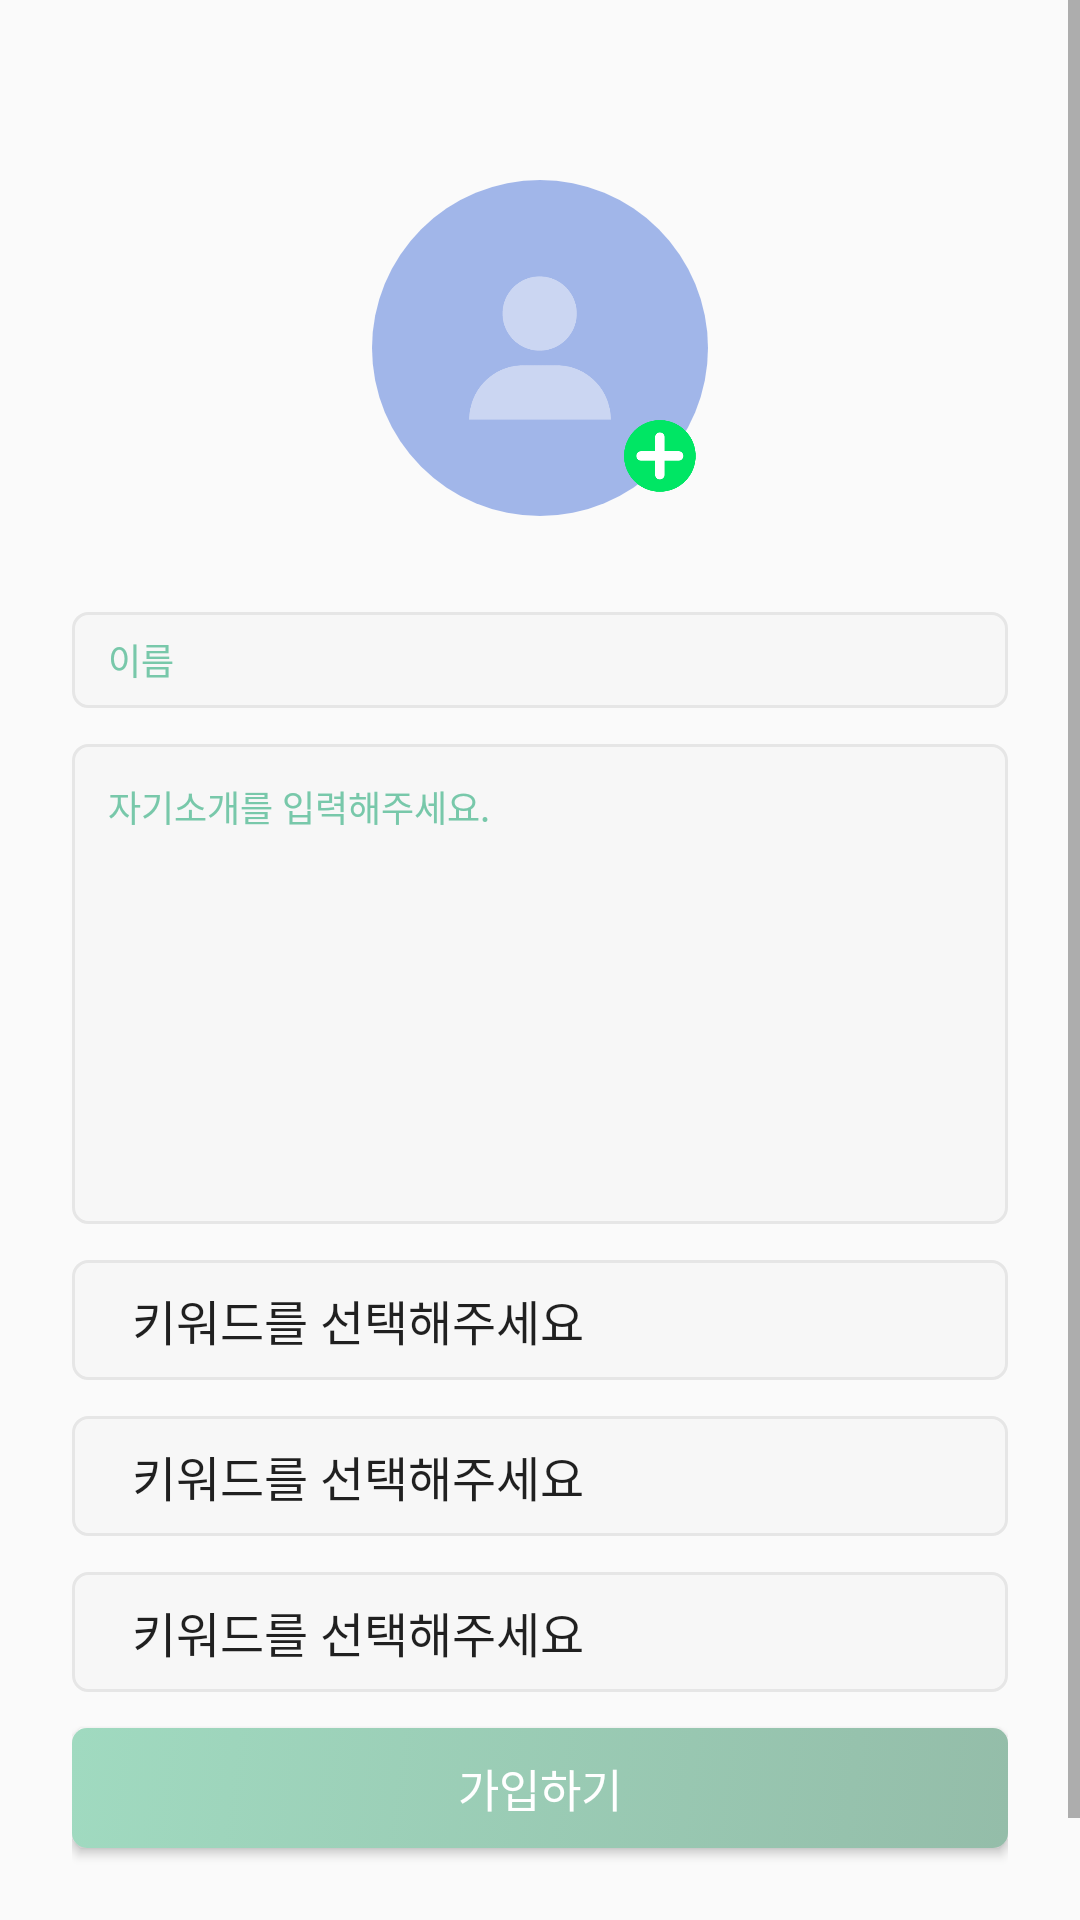

Named icons in this screenshot (1080 × 1920) and their bounding boxes, (x1, y1, x2, y2):
profile: (372, 180, 708, 516)
